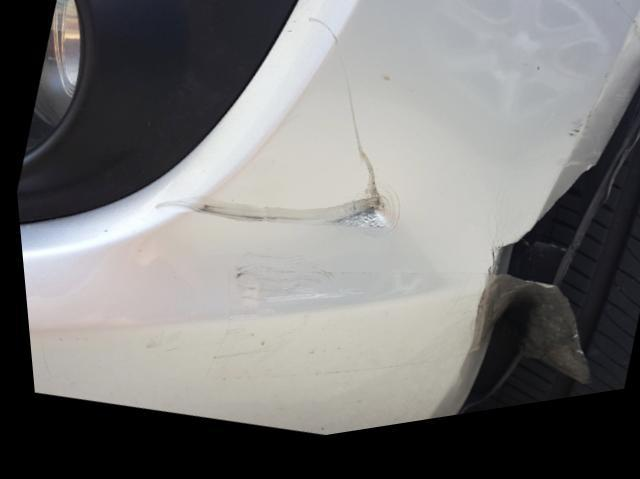dent: (330, 194, 392, 248)
scratch: (306, 25, 374, 195), (149, 203, 337, 234)
